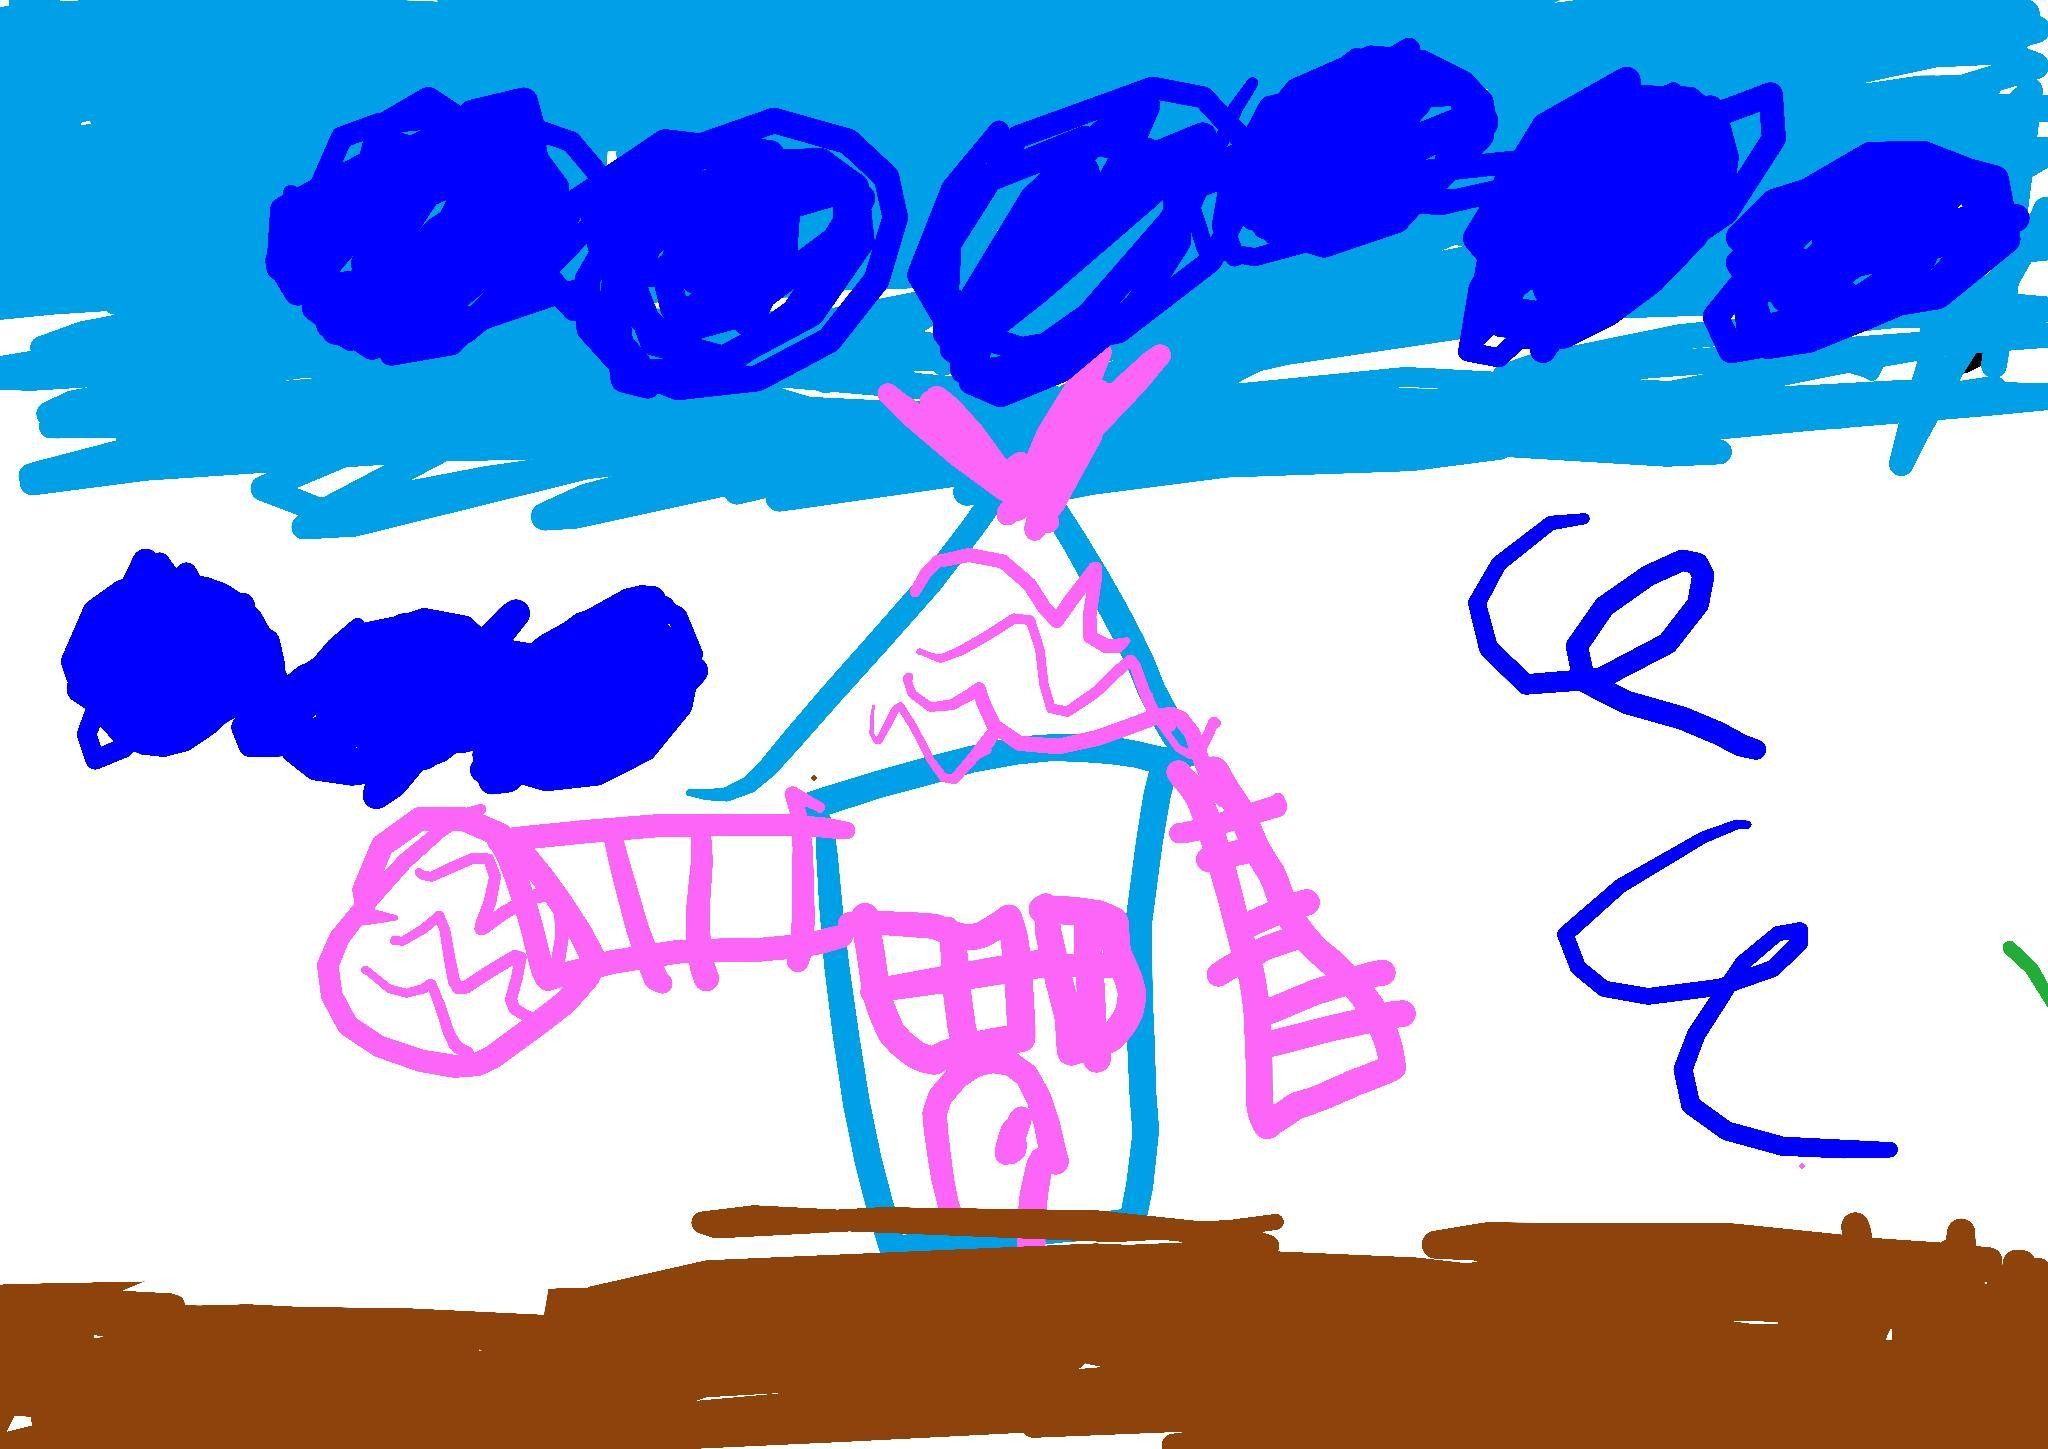door: (927, 1051, 1065, 1264)
house: (502, 445, 1414, 1270)
roof: (677, 444, 1207, 811)
wall: (820, 748, 1176, 1264)
window: (848, 908, 1019, 1076), (1038, 894, 1145, 1062)
